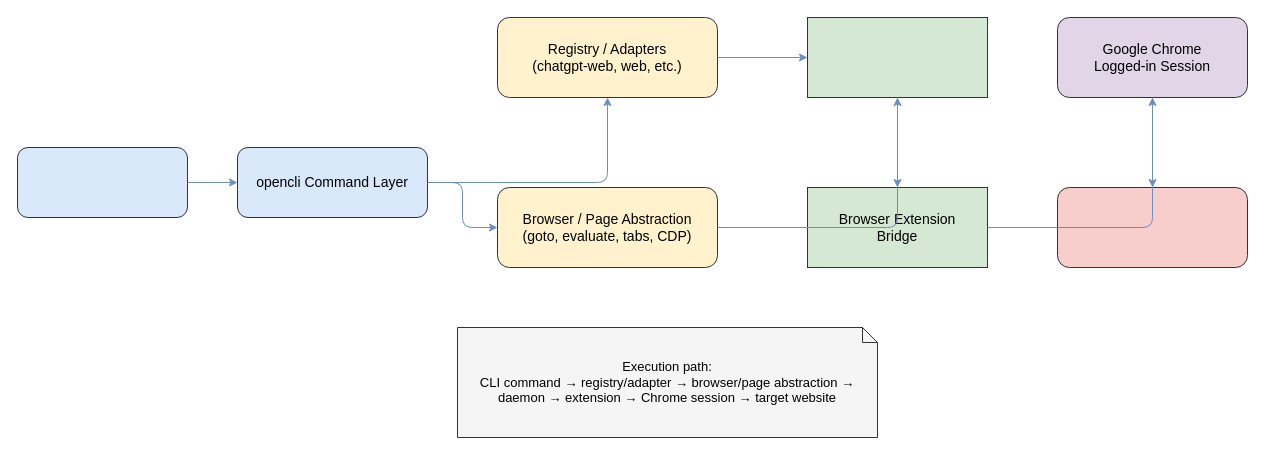
The diagram is 1265 pixels wide and 455 high, and some of its shapes have lost their labels. The box of each missing label's shape, as (x1, y1, x2, y2) in pixels:
OpenCLI Daemon: (806, 16, 988, 98)
Target Website (ChatGPT Web): (1056, 186, 1248, 268)
User / AI Agent: (16, 146, 188, 218)
